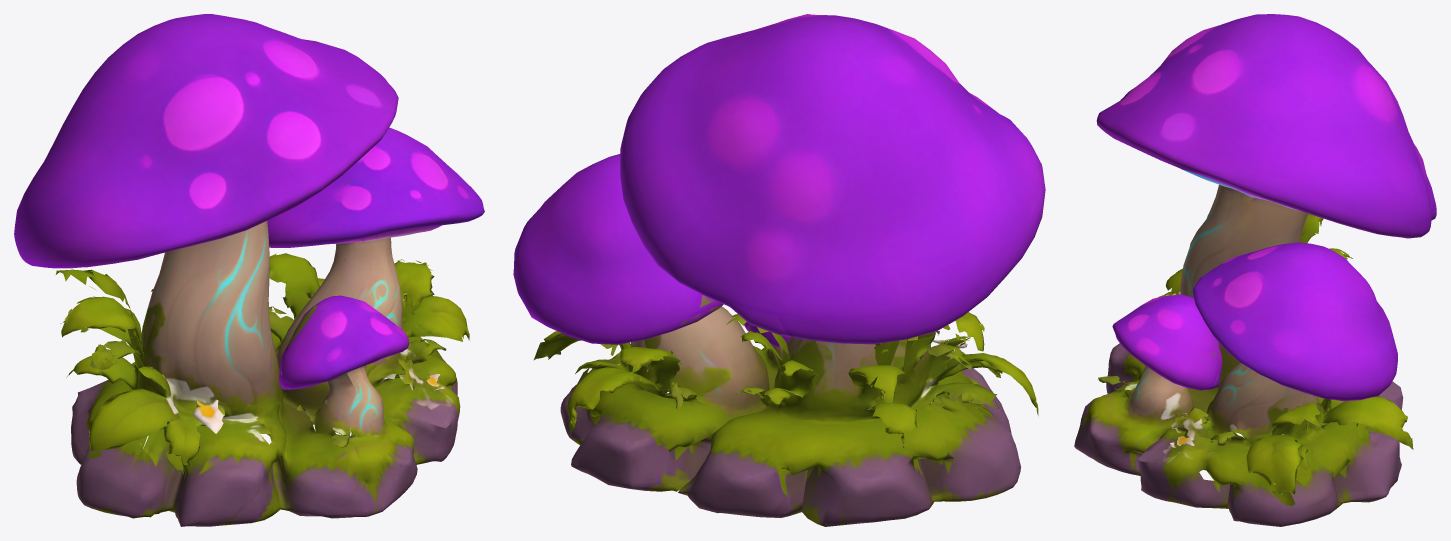
The model's file is mantar.glb.
3 renders of one model, left to right at view 1: azimuth 30°, elevation 25°; view 2: azimuth 150°, elevation 25°; view 3: azimuth 270°, elevation 25°, orthographic. The views are drawn at different scales.
Visible parts, largest first — view 1: tripo_node_eb1cccbf; view 2: tripo_node_eb1cccbf; view 3: tripo_node_eb1cccbf.
Part boxes in pixels (x1,y1,x2,y2): tripo_node_eb1cccbf: (14, 14, 484, 526); tripo_node_eb1cccbf: (513, 14, 1045, 526); tripo_node_eb1cccbf: (1074, 14, 1436, 526).
Bounding box in the file's own units: 0.9976 × 0.9032 × 0.7504.
Materials: 1 (1 with a texture image).
